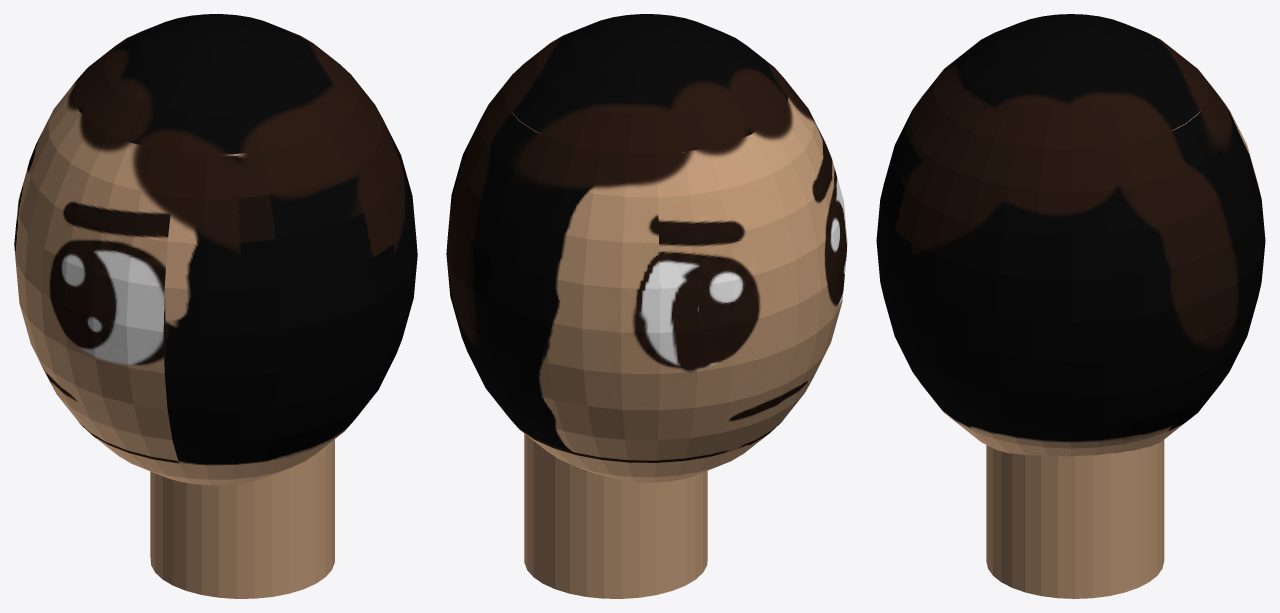
Rendered from Cabeza_Bulls.obj.
The picture shows the model from 3 angles, left to right: view 1: azimuth 30°, elevation 25°; view 2: azimuth 150°, elevation 25°; view 3: azimuth 270°, elevation 25°; orthographic projection. The views are drawn at different scales.
Visible parts, largest first — view 1: Cabeza_Bulls; view 2: Cabeza_Bulls; view 3: Cabeza_Bulls.
Boxes of the visible parts, x1,y1,x2,y2 form: Cabeza_Bulls: (14,14,417,598); Cabeza_Bulls: (446,14,847,598); Cabeza_Bulls: (876,14,1265,598).
Bounding box in the file's own units: 1.75 × 2.57 × 1.75.
1 material, 1 textured.
